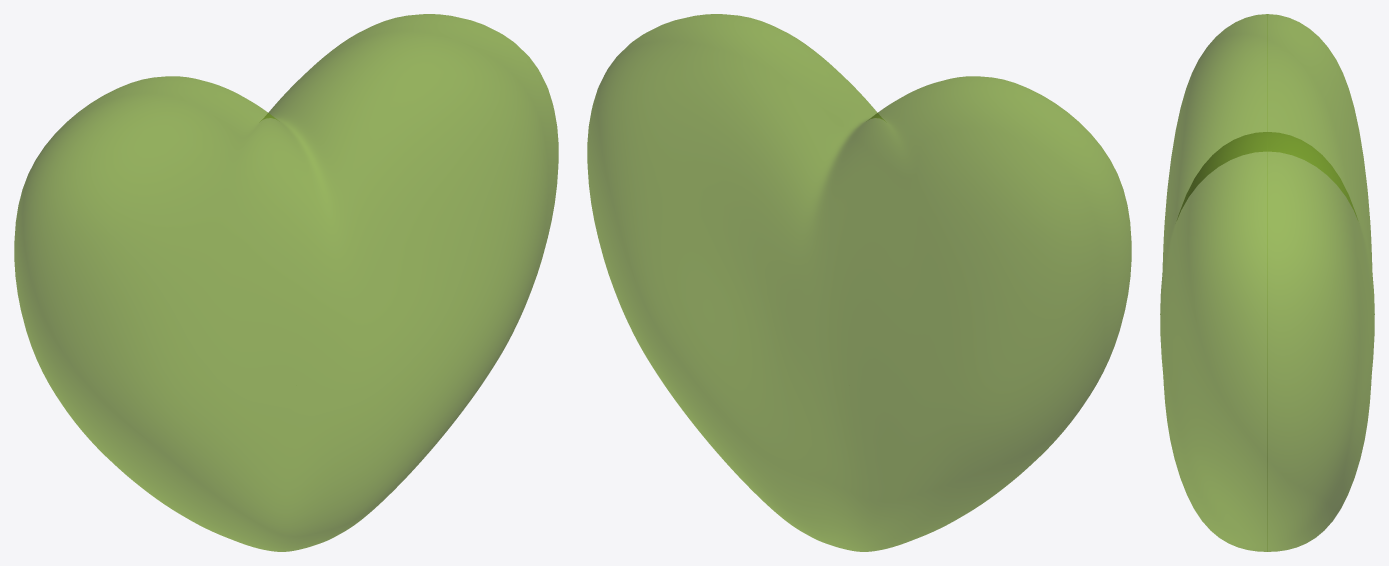
Rendered from tz-coracao-maca-verde.glb.
3 renders of one model, left to right at view 1: azimuth 30°, elevation 25°; view 2: azimuth 150°, elevation 25°; view 3: azimuth 270°, elevation 25°, orthographic. The views are drawn at different scales.
Parts seen in each view (by area): view 1: Coração; view 2: Coração; view 3: Coração.
Boxes of the visible parts, bbox=[...] form: Coração: bbox=[14, 14, 558, 551]; Coração: bbox=[587, 14, 1131, 551]; Coração: bbox=[1160, 14, 1374, 551].
Size of the model in its own units: 0.4002 by 0.3573 by 0.1513.
